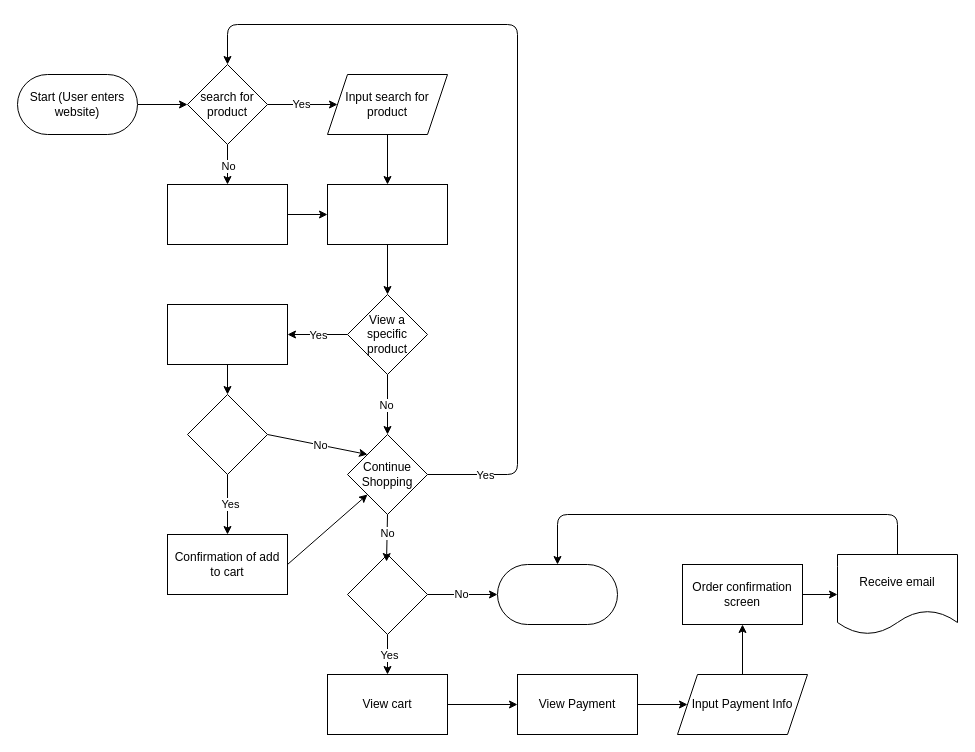
Image size: 975x752. Some labels were removed from this diagram. The box of each missing label's shape, as (x1, y1, x2, y2) in pixels:
Add to Cart: (186, 394, 268, 474)
Checkout: (346, 554, 428, 634)
Enter product webpage: (166, 304, 288, 364)
Exit website: (496, 564, 618, 624)
Explore products on page: (166, 184, 288, 244)
Look over the products: (326, 184, 448, 244)
